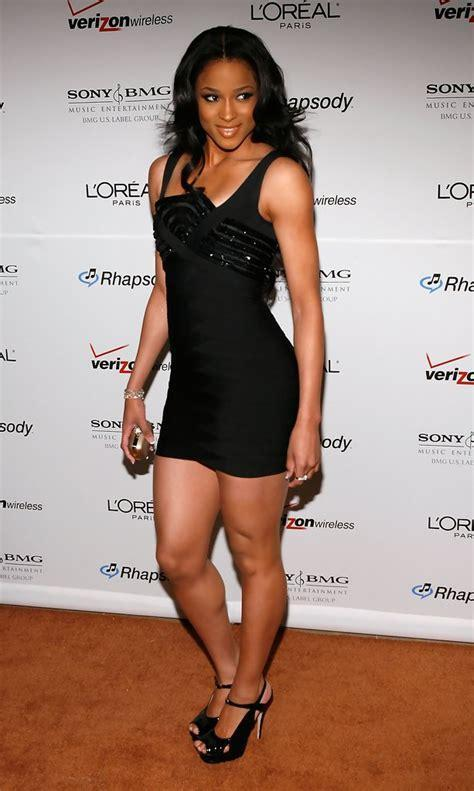dress: (152, 150, 303, 477)
